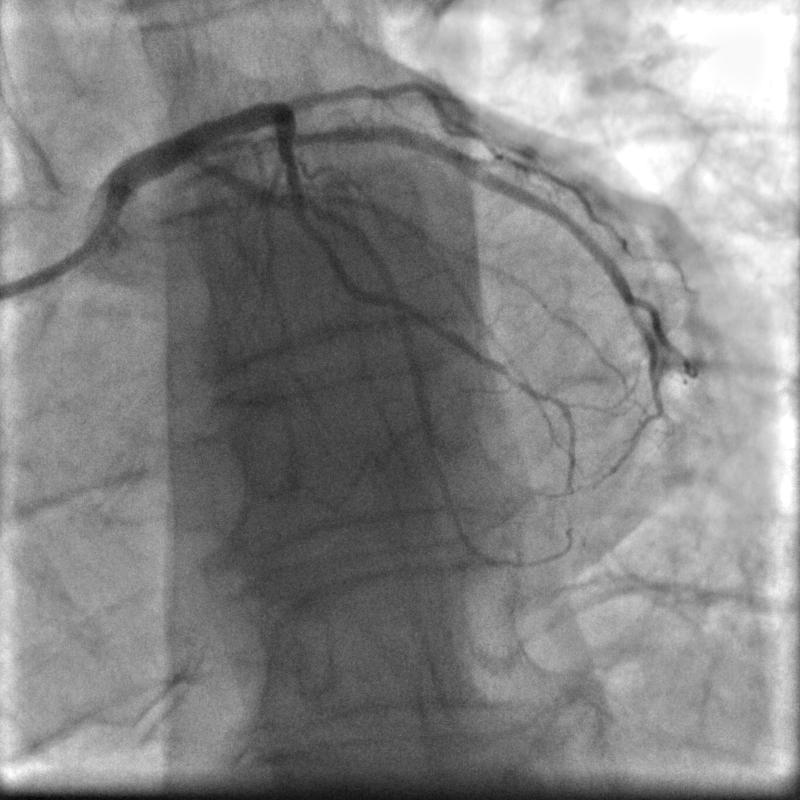Stenosis: (276, 125, 305, 178)
